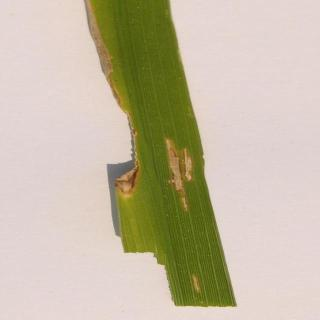Hawar-Daun: (75, 3, 154, 218), (163, 132, 212, 226), (185, 266, 209, 296)
